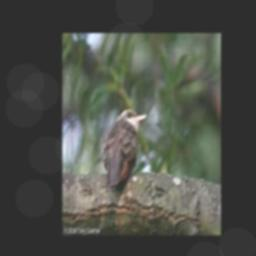Cuckoo: (102, 109, 147, 189)
